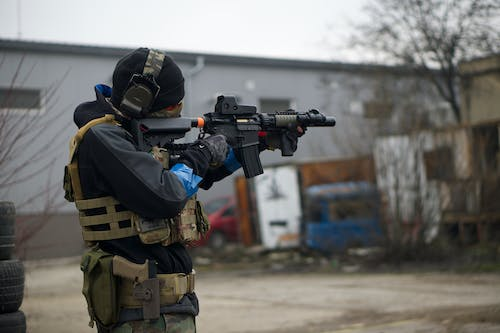gun: (128, 93, 336, 181)
